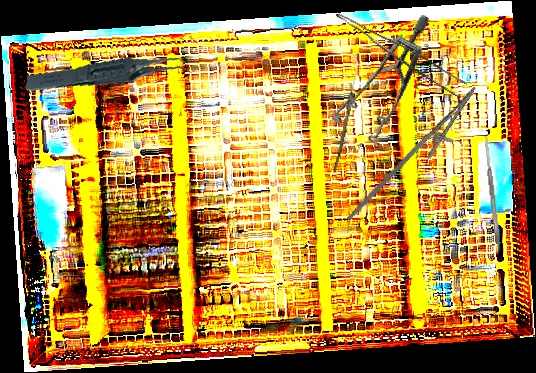Needle Holder: (345, 72, 489, 243)
Spatula Surgical: (483, 135, 501, 245)
Speculum: (306, 12, 469, 159)
Surgical Spoon: (333, 64, 360, 173)
Tissue Forceps: (327, 12, 470, 98), (25, 40, 194, 112)
